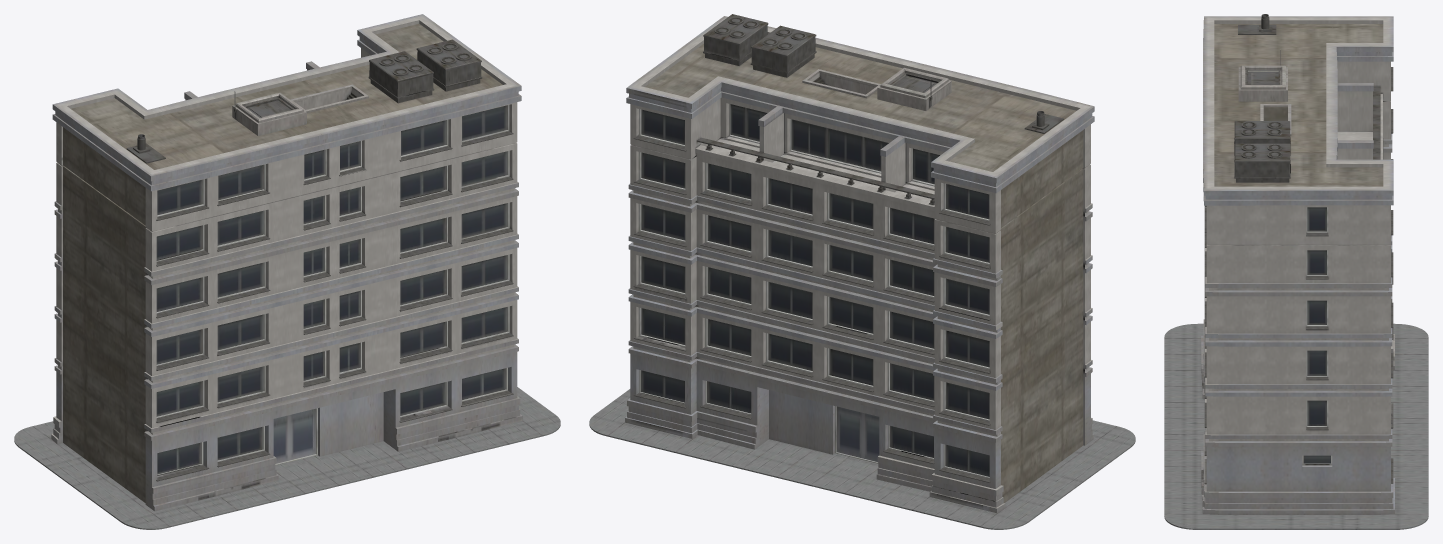
File: bld22_14.glb
3 renders of one model, left to right at view 1: azimuth 30°, elevation 25°; view 2: azimuth 150°, elevation 25°; view 3: azimuth 270°, elevation 25°, orthographic. The views are drawn at different scales.
Parts seen in each view (by area): view 1: bld22_14; view 2: bld22_14; view 3: bld22_14.
Part boxes in pixels (x1=…): bld22_14: x1=14, y1=14, x2=560, y2=529; bld22_14: x1=589, y1=14, x2=1135, y2=529; bld22_14: x1=1164, y1=14, x2=1428, y2=529.
Bounding box in the file's own units: 48.69 × 38.67 × 26.53.
1 material, 1 textured.
